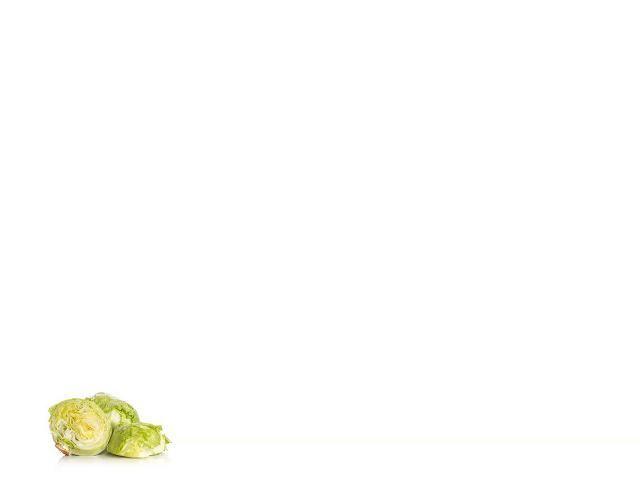lettuce: (79, 390, 145, 433)
